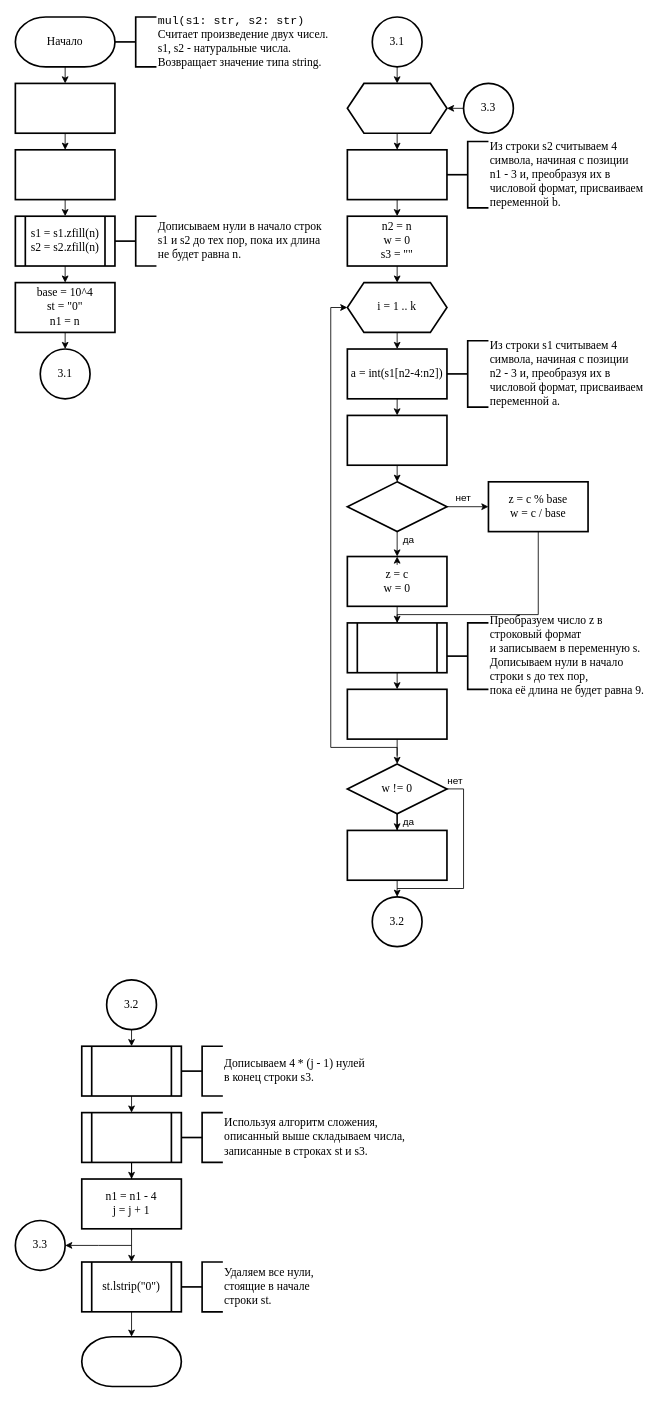
Image size: 658x1402. Some labels were removed from this diagram. Here are the shapes that lost their labels. From the top down, the centre of each, then its label:
(x=64, y=108): l1 = len(s1) l2 = len(s2)
(x=396, y=108): j = 1 .. k
(x=64, y=174): m = max(l1, l2) k = (m-1)/4 + 1 n = 4*k
(x=396, y=174): b = int(s2[n1-4:n1])
(x=396, y=440): c = a * b + w
(x=396, y=506): c < base
(x=396, y=647): s = str(z) s = s.zfill(4)
(x=396, y=714): s3 = s + s3 n2 = n2 - 4 i = i + 1
(x=396, y=855): s3 = str(w) + s3
(x=131, y=1070): zl = 4 * (j - 1) s3 += "0" * zl
(x=131, y=1137): st = add(st, s3)
(x=131, y=1361): Конец
